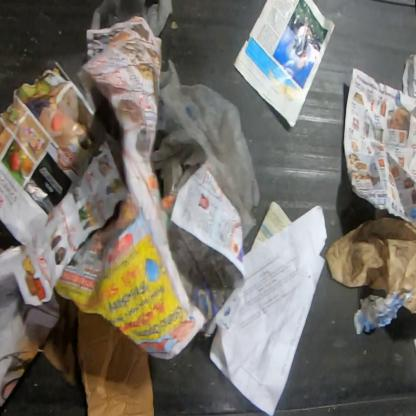cardboard: (77, 310, 155, 416)
soft_plastic: (152, 58, 261, 241), (90, 0, 175, 39)
